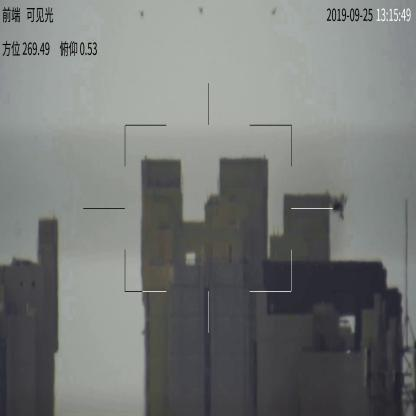uav: (322, 193, 344, 220)
